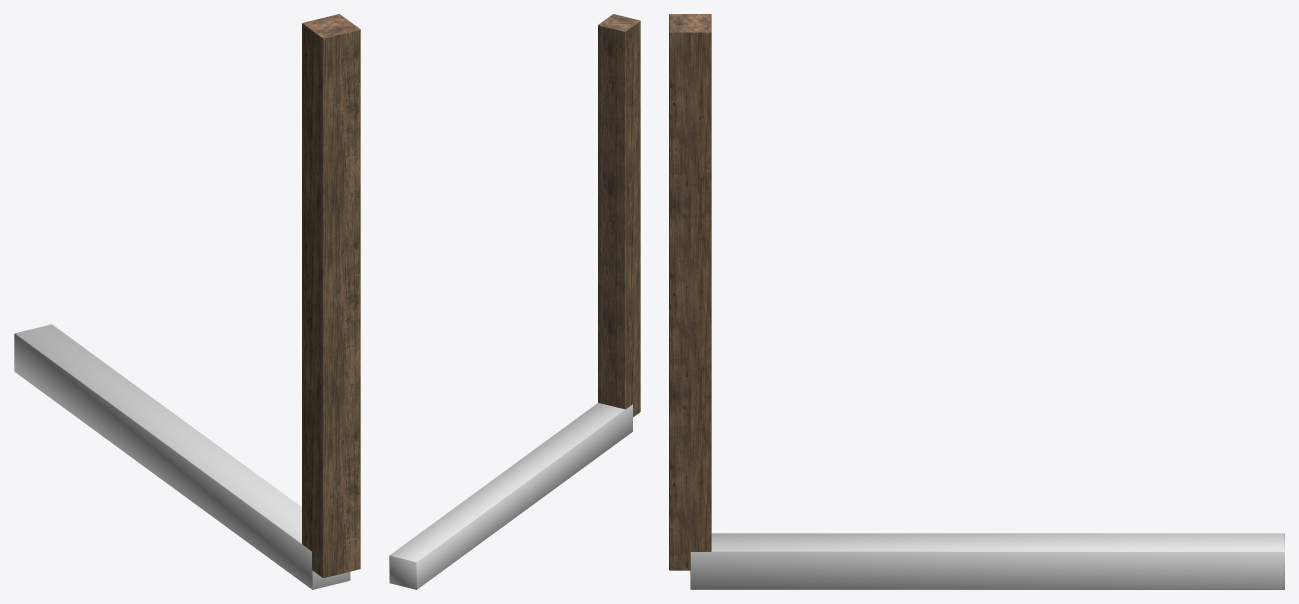
The model's file is SM_Beam_A.fbx.
The picture shows the model from 3 angles, left to right: view 1: azimuth 30°, elevation 25°; view 2: azimuth 150°, elevation 25°; view 3: azimuth 270°, elevation 25°; orthographic projection. The views are drawn at different scales.
Visible parts, largest first — view 1: SM_Beam_A, SM_Beam_A_ConvexHulls; view 2: SM_Beam_A, SM_Beam_A_ConvexHulls; view 3: SM_Beam_A_ConvexHulls, SM_Beam_A.
Part boxes in pixels (box(x1,y1,x2,y2)): SM_Beam_A: box(302, 14, 360, 577); SM_Beam_A_ConvexHulls: box(14, 324, 350, 589); SM_Beam_A: box(598, 14, 640, 417); SM_Beam_A_ConvexHulls: box(389, 403, 632, 589); SM_Beam_A_ConvexHulls: box(690, 533, 1284, 589); SM_Beam_A: box(669, 14, 711, 570).
Size of the model in its own units: 0.4188 by 5.86 by 5.86.
